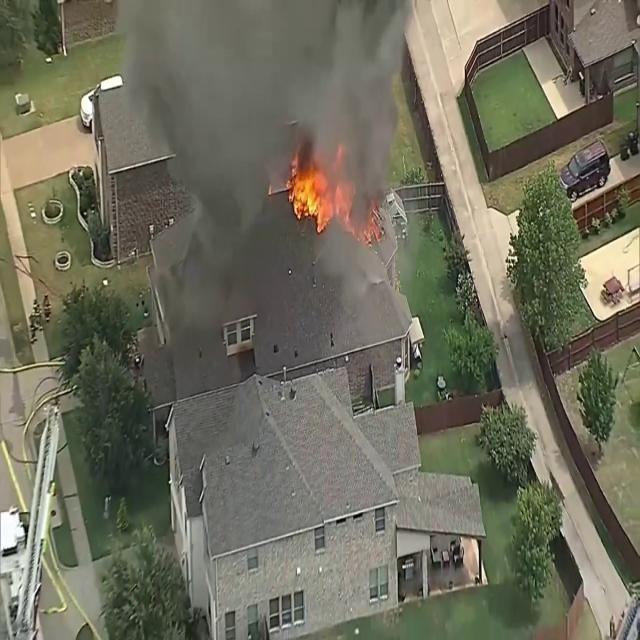Fire: (284, 154, 342, 232)
Smoke: (119, 1, 406, 192)
